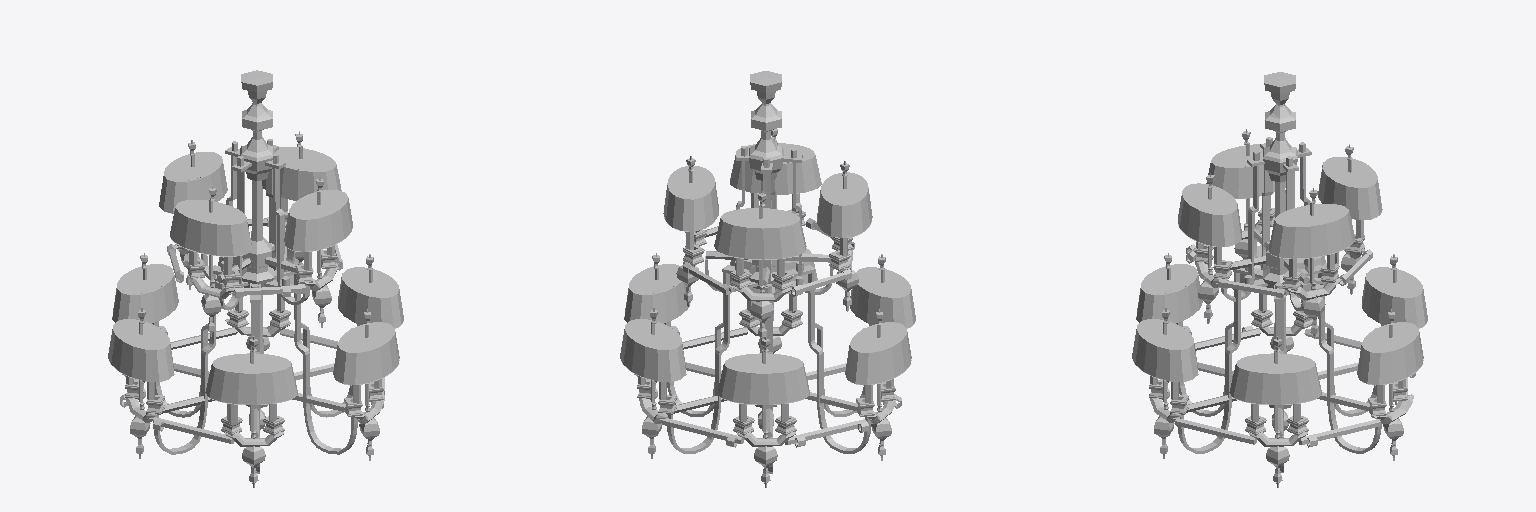
Rendered from light2.obj.
3 views of the same model, side by side, from view 1: azimuth 30°, elevation 25°; view 2: azimuth 150°, elevation 25°; view 3: azimuth 270°, elevation 25° (orthographic).
Visible parts, largest first — view 1: TRIANGLES-0; view 2: TRIANGLES-0; view 3: TRIANGLES-0.
Part boxes in pixels (x1,y1,x2,y2): TRIANGLES-0: (108,70,403,487); TRIANGLES-0: (620,71,915,487); TRIANGLES-0: (1132,72,1427,487).
Size of the model in its own units: 1003 by 1245 by 941.